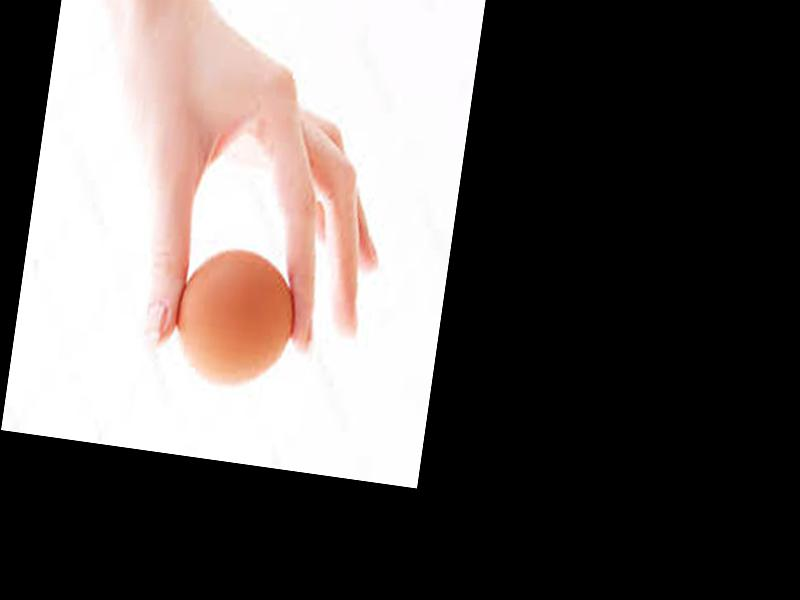Eggs: (167, 245, 303, 391)
